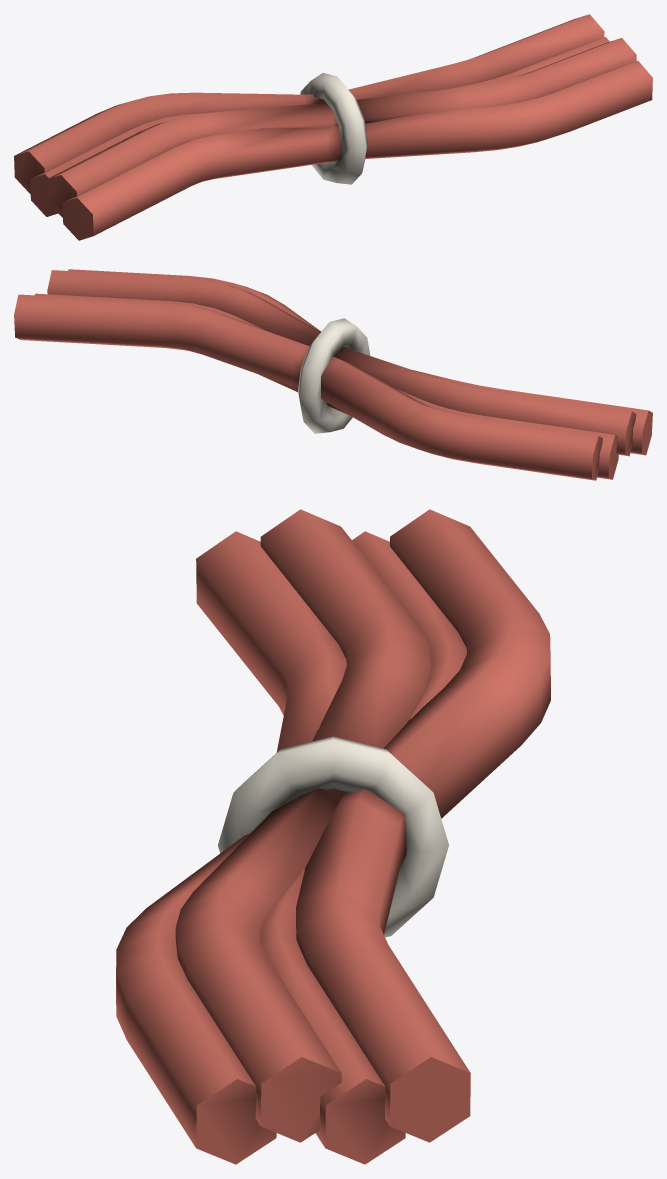
Rendered from forage_fibre.glb.
3 views of the same model, one above another, from view 1: azimuth 30°, elevation 25°; view 2: azimuth 150°, elevation 25°; view 3: azimuth 270°, elevation 25° (orthographic). The views are drawn at different scales.
Visible parts, largest first — view 1: PART; view 2: PART; view 3: PART.
Boxes of the visible parts, x1,y1,x2,y2 form: PART: (14,14,652,240); PART: (14,269,652,480); PART: (116,509,550,1164).
Bounding box in the file's own units: 0.1633 × 0.0287 × 0.0539.
